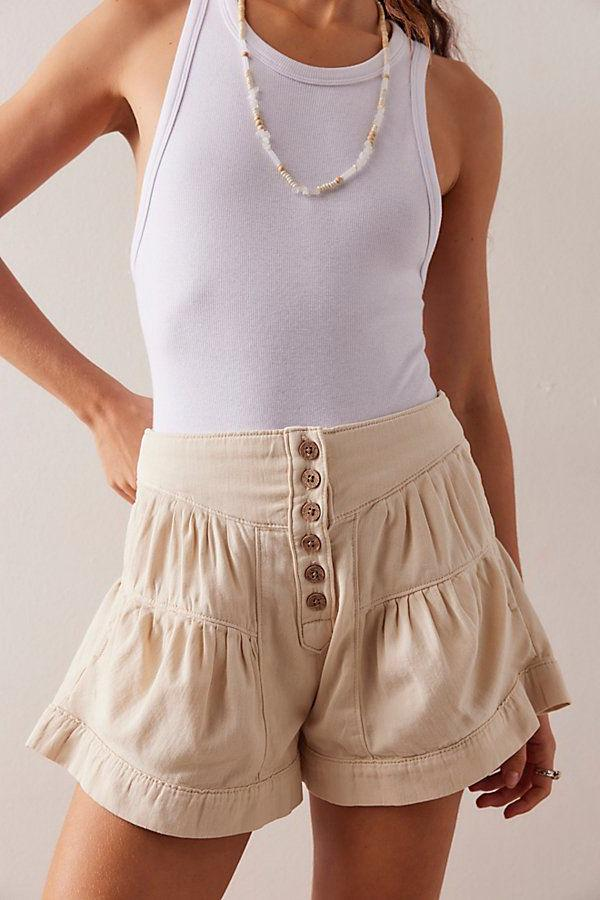Shorts: (20, 387, 575, 846)
vest: (127, 0, 458, 442)
